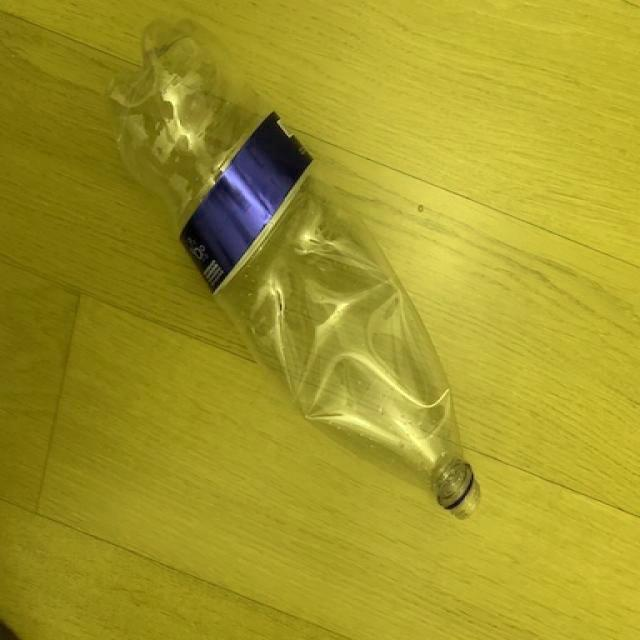bottle: (104, 18, 480, 521)
